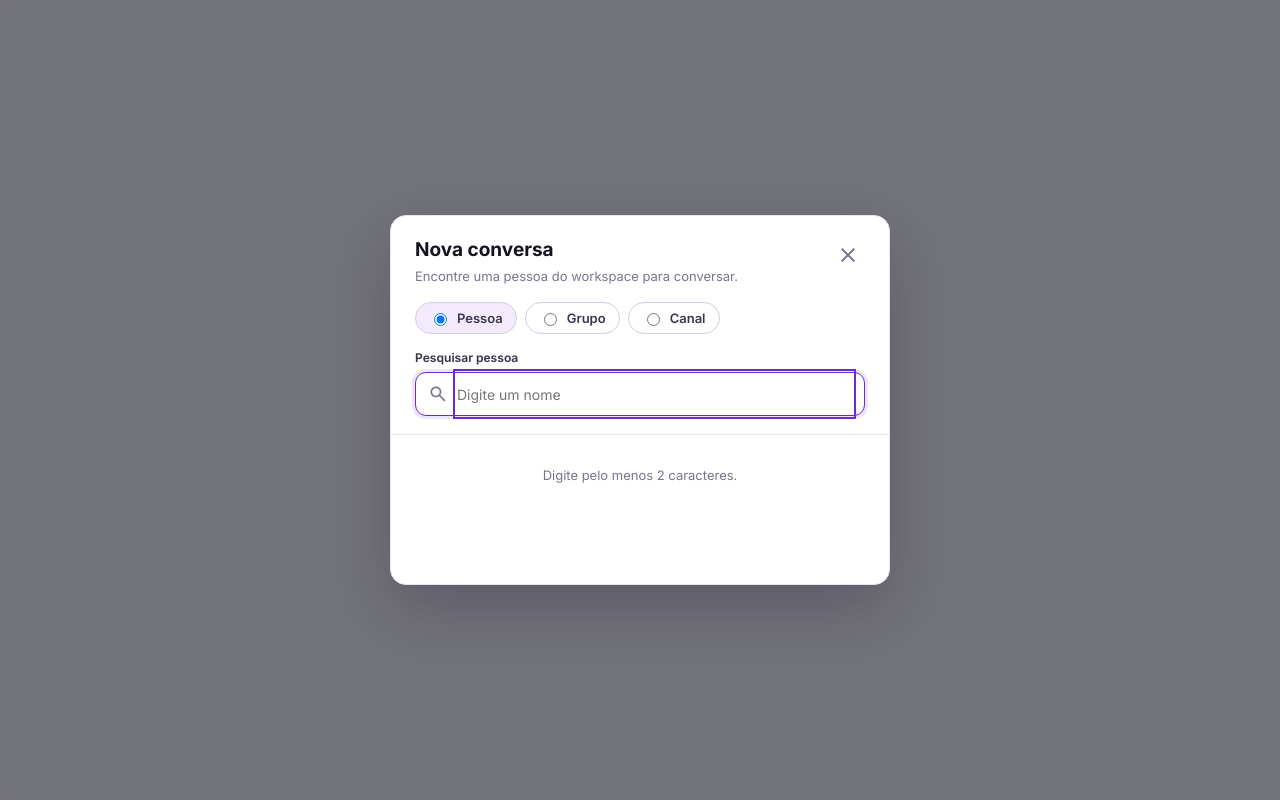
Test: NewConversationDialog › shows an empty result state
The image size is (1280, 800).
Type "ninguém" into the search field at (654, 394), box [457,373,852,415]
Wait 150 ms
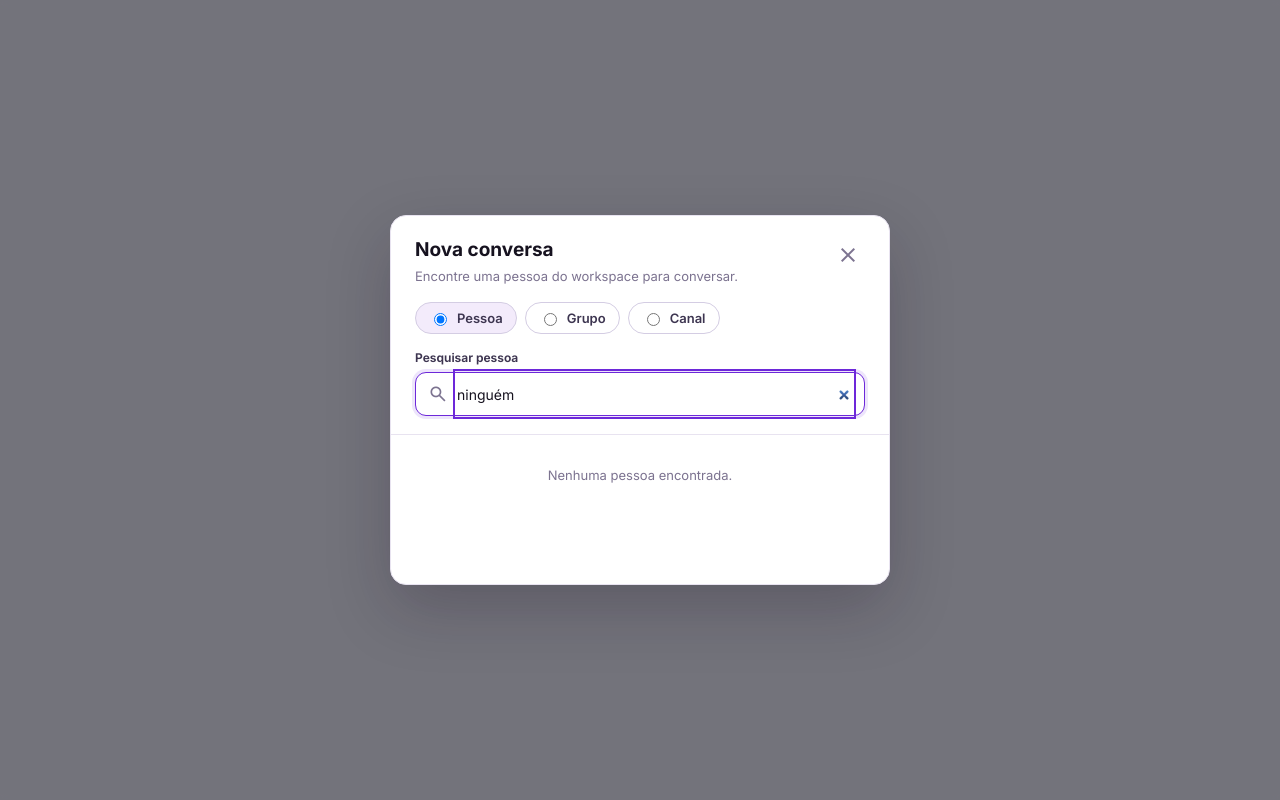
Check: the text "Nenhuma pessoa encontrada." is shown, box [548,467,732,483]
